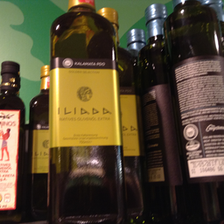oil: (49, 1, 127, 224), (162, 1, 224, 222), (1, 62, 26, 224)
